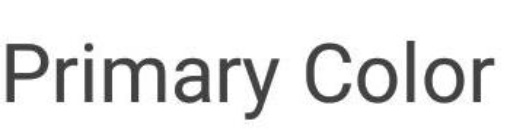TextView: (1, 1, 509, 139)
